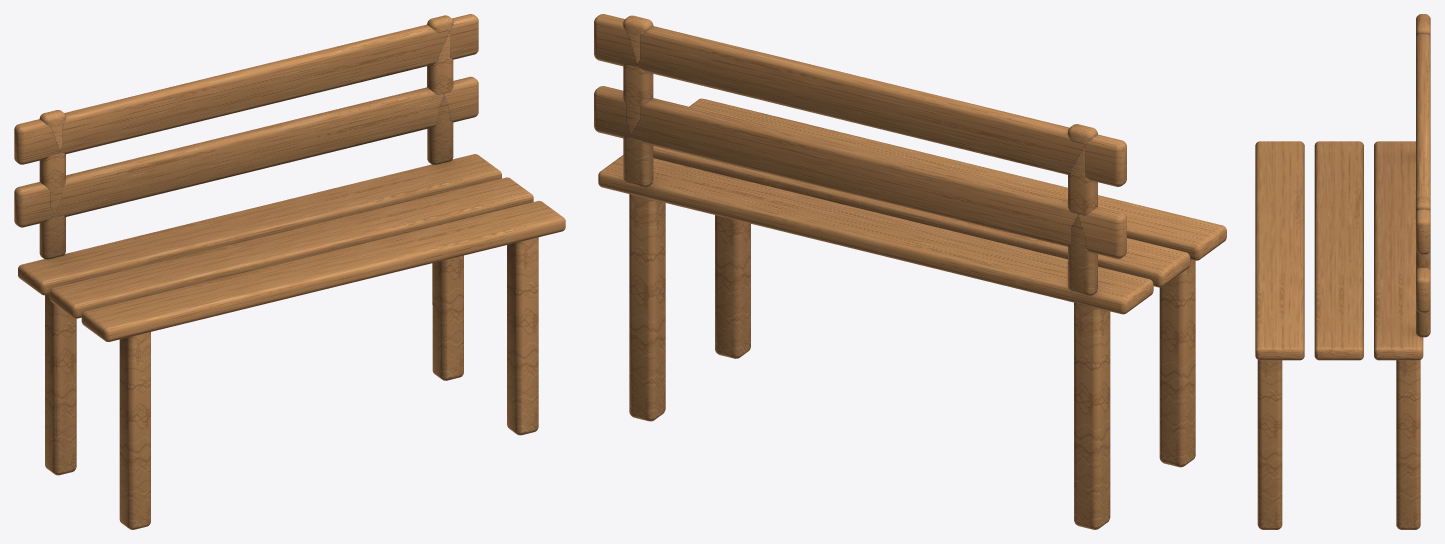
File: bench.glb
3 renders of one model, left to right at view 1: azimuth 30°, elevation 25°; view 2: azimuth 150°, elevation 25°; view 3: azimuth 270°, elevation 25°, orthographic. The views are drawn at different scales.
Parts seen in each view (by area): view 1: bench; view 2: bench; view 3: bench.
Boxes of the visible parts, <box> form: bench: <box>14,14,565,529</box>; bench: <box>594,14,1226,529</box>; bench: <box>1255,14,1430,529</box>.
Bounding box in the file's own units: 0.9998 × 0.7297 × 0.3547.
Materials: 1 (1 with a texture image).
